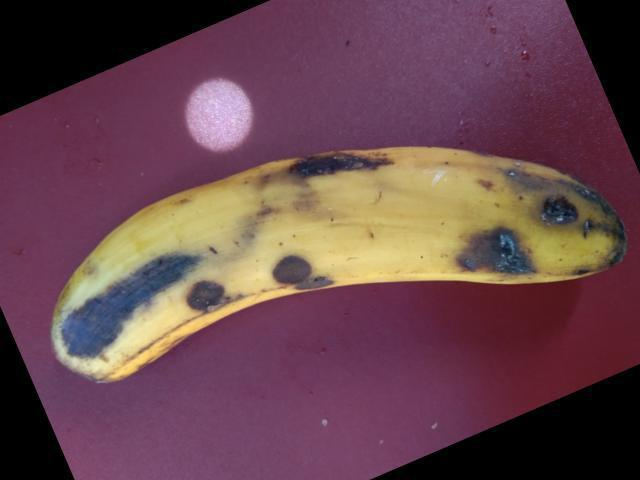overripe: (42, 136, 627, 390)
